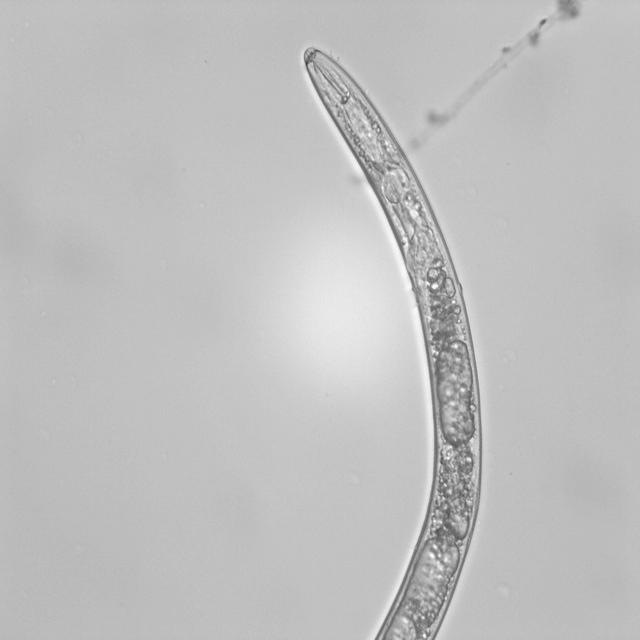Helicotylenchus: (296, 44, 504, 640)
